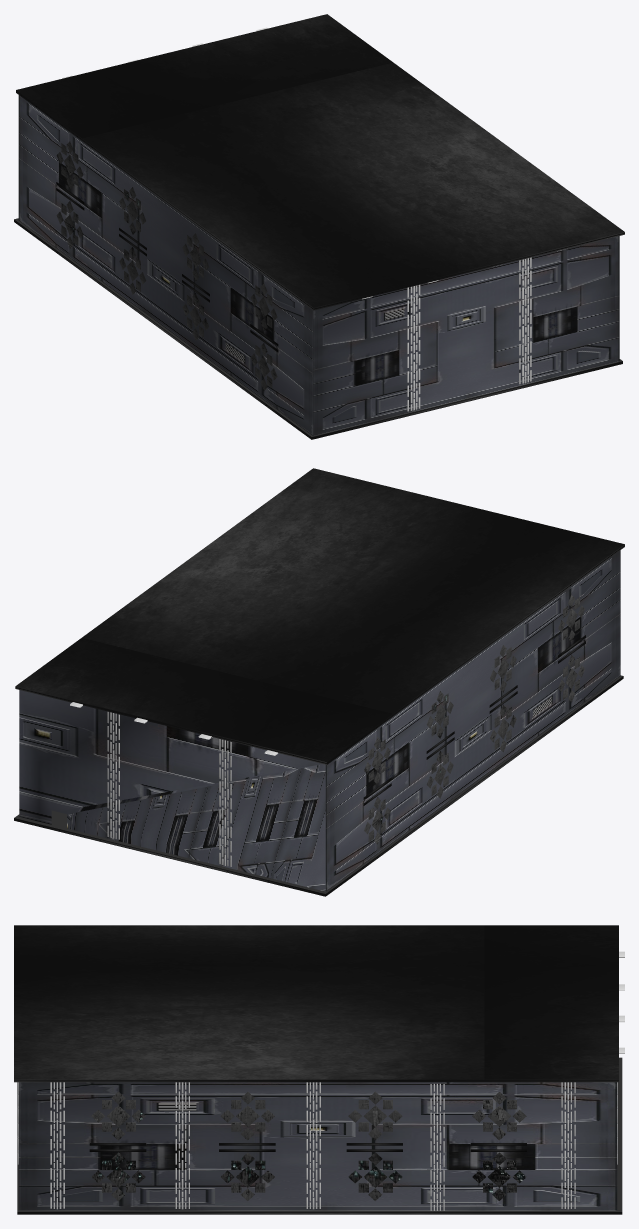
File: Habitaciolvl1.fbx
The picture shows the model from 3 angles, top to bottom: view 1: azimuth 30°, elevation 25°; view 2: azimuth 150°, elevation 25°; view 3: azimuth 270°, elevation 25°; orthographic projection.
Parts seen in each view (by area): view 1: Cube, Cubo_019, Cubo_172, Cubo_017, Cubo_009, Cubo_008; view 2: Cube, Cubo_019, Cubo_172, Cubo_017, Cubo_007, Cubo_006; view 3: Cube, Cubo_019, Cubo_052, Cubo_017, Cubo_012, Cubo_011, Cubo_056, Cubo_013, Cubo_014.
Part boxes in pixels (x1,y1,x2,y2): Cube: [16, 14, 624, 310]; Cubo_019: [18, 95, 619, 435]; Cubo_172: [56, 141, 277, 390]; Cubo_017: [14, 218, 622, 439]; Cubo_009: [407, 284, 420, 411]; Cubo_008: [519, 257, 531, 384]; Cube: [15, 468, 624, 764]; Cubo_019: [19, 550, 620, 891]; Cubo_172: [364, 595, 584, 844]; Cubo_017: [14, 675, 623, 896]; Cubo_007: [219, 739, 231, 866]; Cubo_006: [107, 711, 119, 839]; Cube: [14, 925, 618, 1082]; Cubo_019: [18, 1082, 617, 1210]; Cubo_052: [91, 1091, 526, 1200]; Cubo_017: [17, 1057, 622, 1214]; Cubo_012: [306, 1082, 320, 1209]; Cubo_011: [175, 1082, 189, 1209]; Cubo_056: [50, 1082, 64, 1209]; Cubo_013: [430, 1083, 444, 1210]; Cubo_014: [561, 1082, 575, 1209].
Size of the model in its own units: 61.04 by 24.91 by 102.
